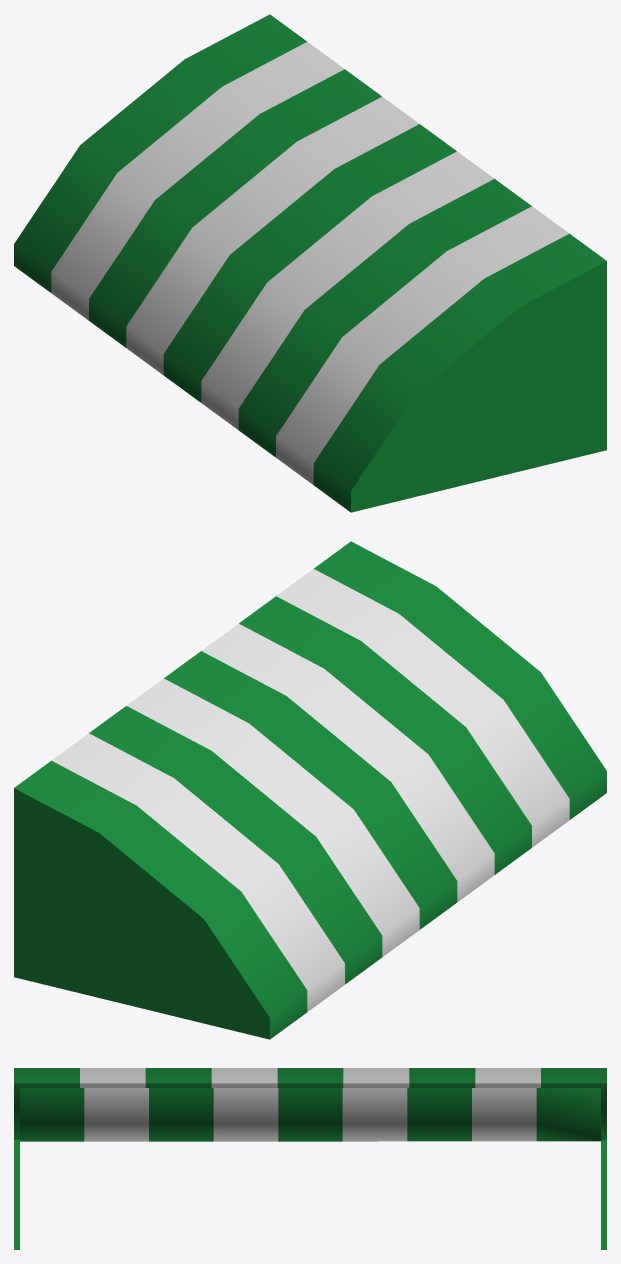
File: Awning_1_E.fbx
The picture shows the model from 3 angles, top to bottom: view 1: azimuth 30°, elevation 25°; view 2: azimuth 150°, elevation 25°; view 3: azimuth 270°, elevation 25°; orthographic projection. The views are drawn at different scales.
Parts seen in each view (by area): view 1: Awning_1_E; view 2: Awning_1_E; view 3: Awning_1_E.
Boxes of the visible parts, x1,y1,x2,y2 form: Awning_1_E: [14, 14, 606, 512]; Awning_1_E: [14, 541, 606, 1039]; Awning_1_E: [14, 1068, 606, 1249].
Size of the model in its own units: 123 by 86.57 by 280.
